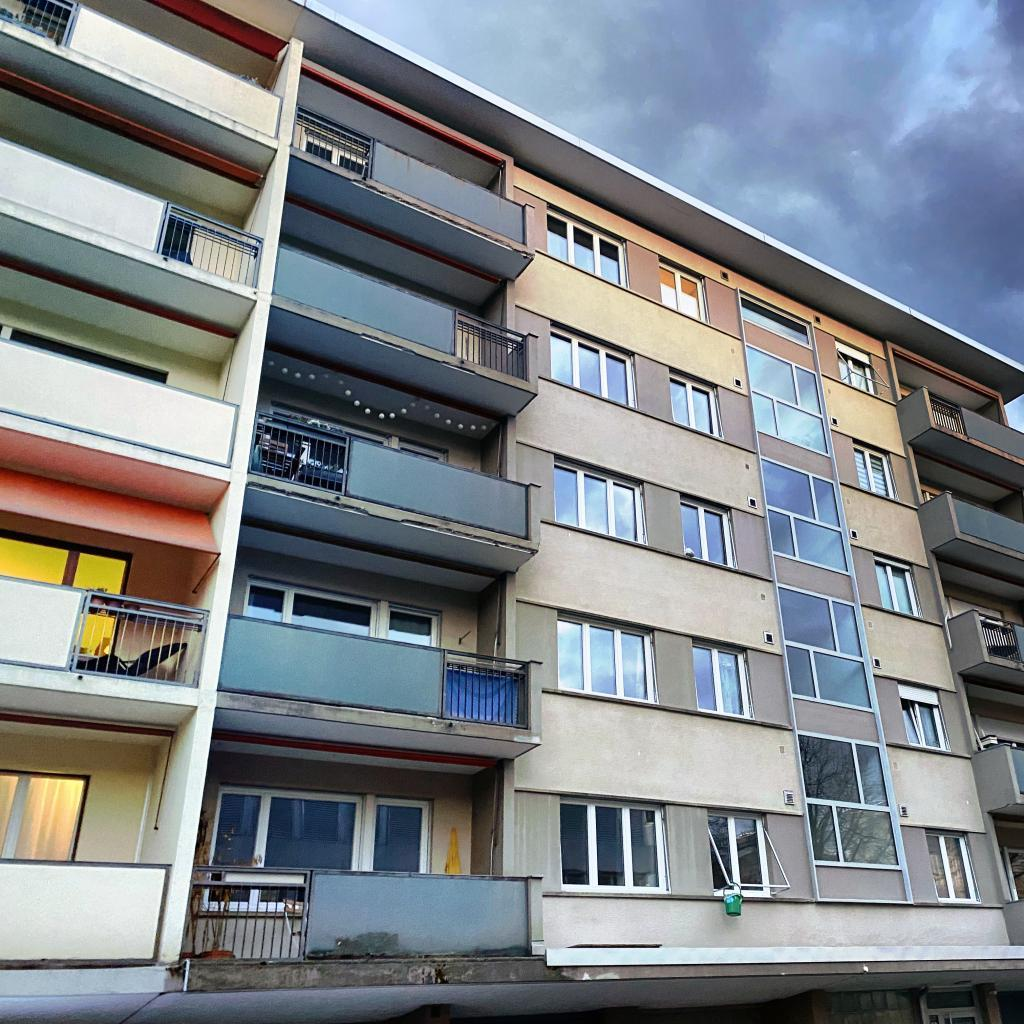balcony-fence: (0, 138, 263, 288), (248, 411, 529, 541), (217, 613, 529, 729), (272, 245, 528, 380), (290, 107, 526, 244), (0, 335, 240, 469), (0, 574, 210, 686), (179, 877, 308, 965), (895, 386, 1024, 466), (920, 489, 1024, 561), (945, 608, 1024, 674), (974, 742, 1024, 813)
facade: (0, 0, 1024, 1024)
window: (201, 787, 362, 910), (0, 531, 135, 670), (262, 404, 445, 492), (796, 729, 904, 870), (245, 576, 442, 646), (777, 583, 874, 714), (759, 455, 852, 577), (560, 795, 673, 895), (0, 321, 172, 383), (745, 341, 831, 459), (557, 612, 659, 704), (554, 456, 648, 545), (0, 768, 89, 862), (550, 321, 637, 409), (547, 205, 630, 289), (708, 810, 772, 898), (692, 638, 755, 720), (373, 798, 431, 875), (680, 494, 738, 569), (924, 830, 982, 903), (897, 682, 951, 752), (670, 369, 723, 440), (659, 258, 709, 324), (741, 299, 808, 345), (873, 553, 921, 617), (304, 130, 368, 174), (916, 988, 987, 1024), (853, 440, 896, 499), (157, 210, 200, 265), (836, 340, 875, 394), (975, 718, 1024, 749), (947, 599, 1007, 620), (1003, 848, 1024, 901)
